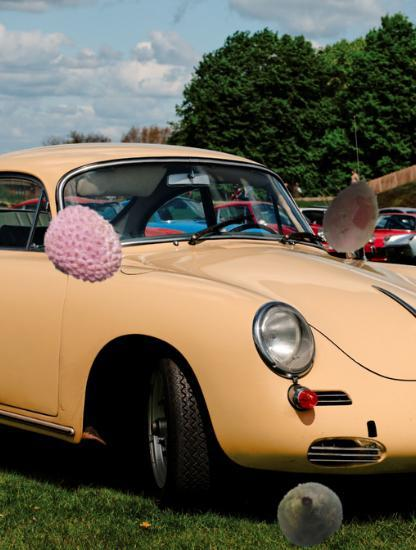Beetroot: (275, 479, 344, 548)
Lychee: (42, 203, 127, 288)
Potato: (314, 177, 394, 257)
